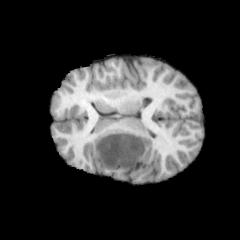glioma: (95, 131, 152, 169)
